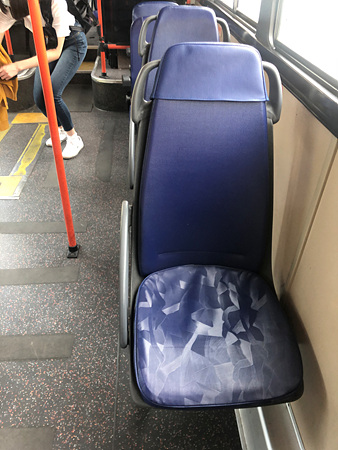seat: (132, 42, 312, 405)
